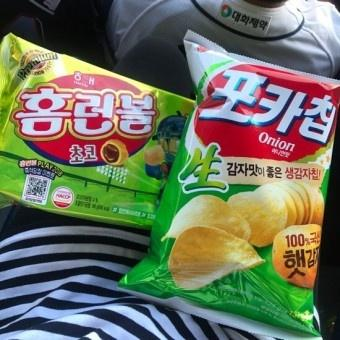snack: (117, 27, 340, 340)
